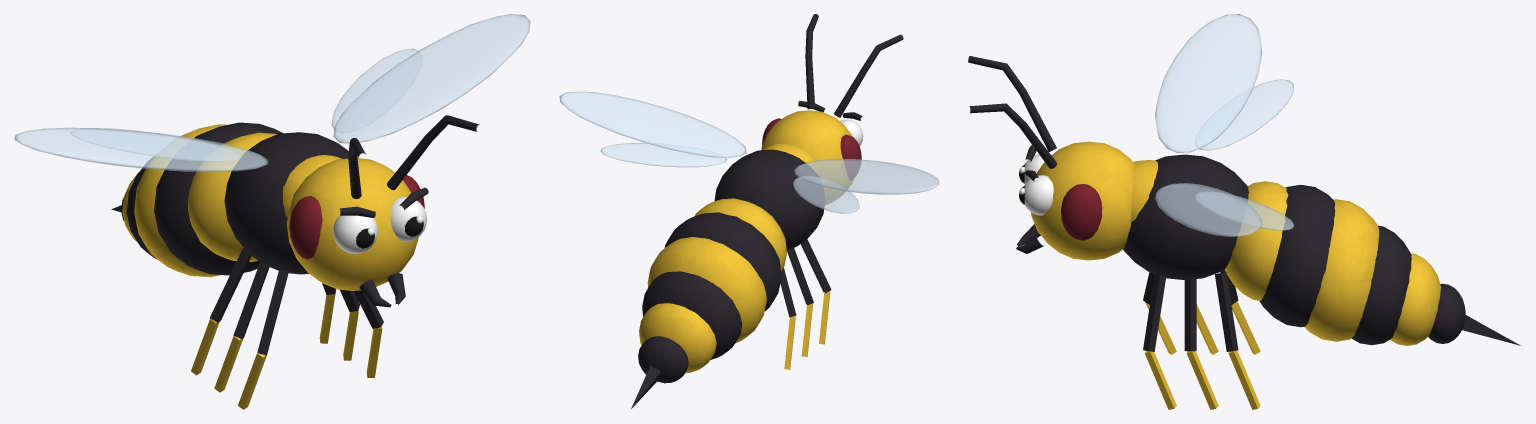
The model's file is avispa.gltf.
3 renders of one model, left to right at view 1: azimuth 30°, elevation 25°; view 2: azimuth 150°, elevation 25°; view 3: azimuth 270°, elevation 25°, orthographic. The views are drawn at different scales.
Visible parts, largest first — view 1: avispa, ala_der, ala_izq; view 2: avispa, ala_der, ala_izq; view 3: avispa, ala_izq, ala_der.
Boxes of the visible parts, x1,y1,x2,y2 form: avispa: (111,115,479,409); ala_der: (331,14,530,143); ala_izq: (14,127,268,172); avispa: (631,14,903,408); ala_der: (559,91,746,167); ala_izq: (793,159,939,213); avispa: (968,56,1520,409); ala_izq: (1155,14,1294,152); ala_der: (1155,183,1294,236).
Bounding box in the file's own units: 0.8779 × 0.5534 × 0.9252.
6 materials, 3 textured.
